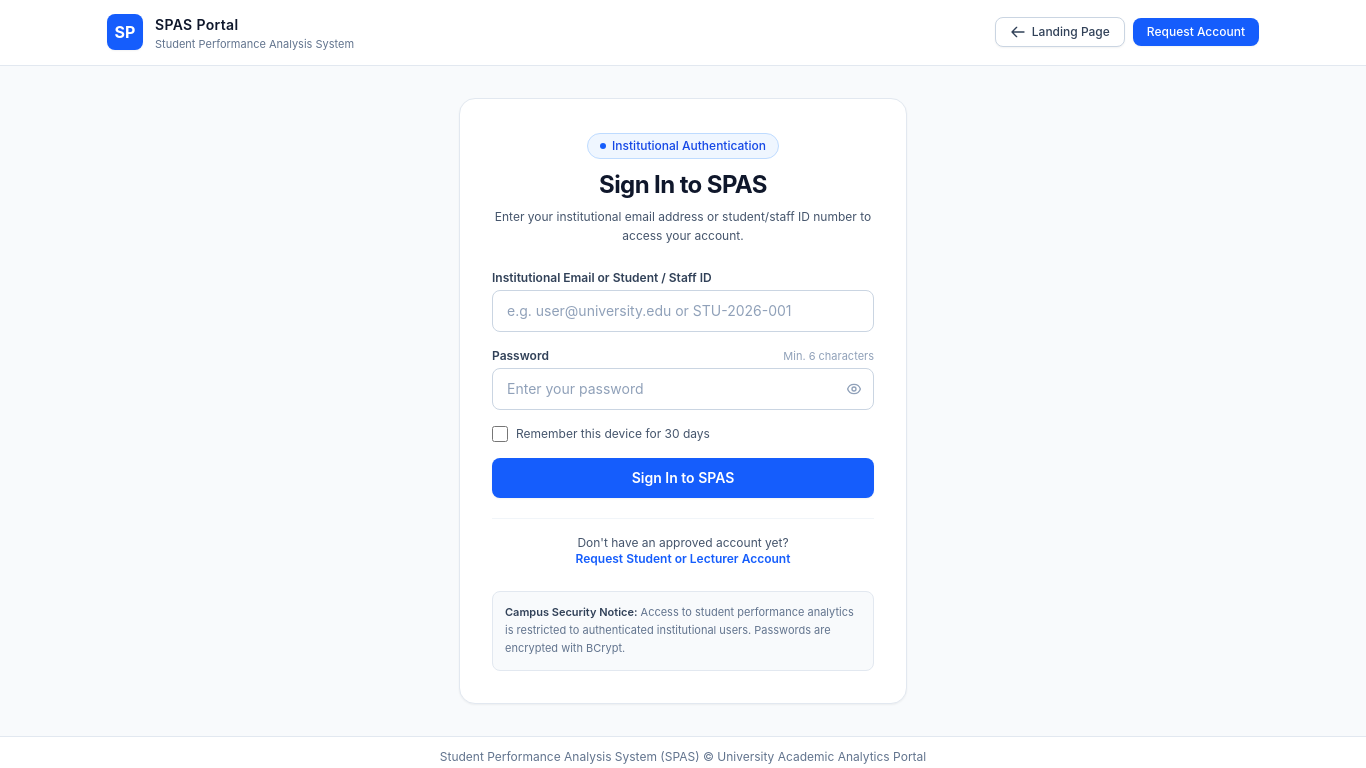
LoginPage › displays server error on authentication failure
The image size is (1366, 768).
Type "bad@spas.edu" into the field labelled "Institutional Email or Student / Staff ID" at (683, 310), box [492,290,874,332]
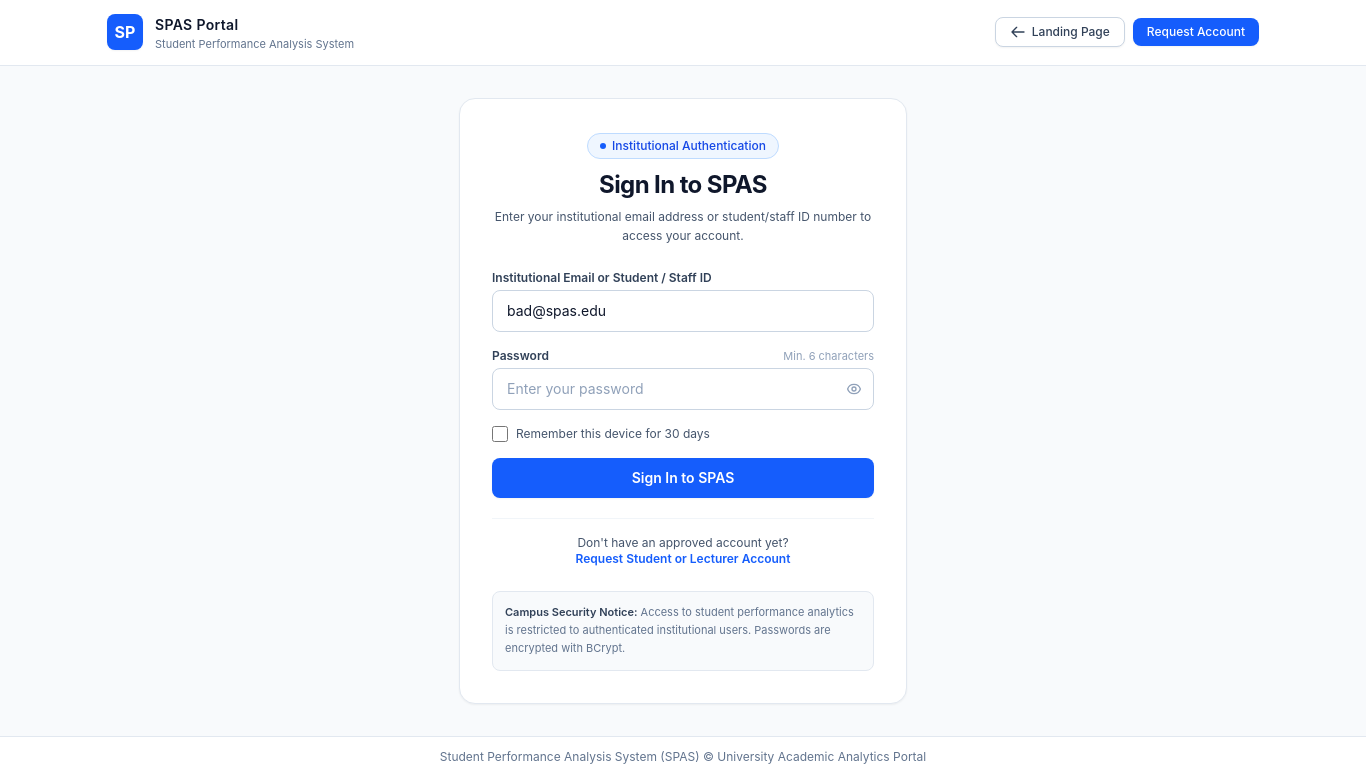
Type "wrongPassword" into the password field labelled "Password" at (683, 389), box [492,368,874,410]
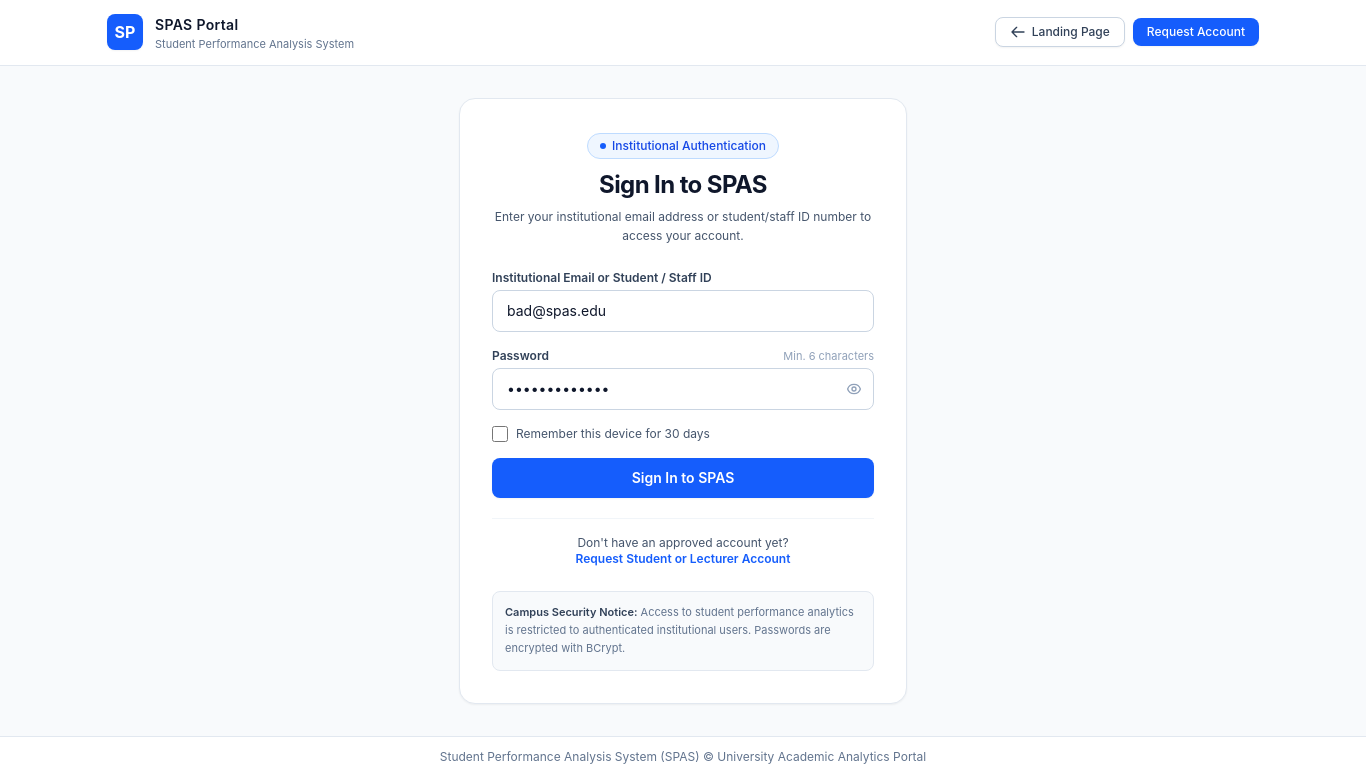
Click the button "Sign In to SPAS" at (683, 478), box [492,458,874,498]
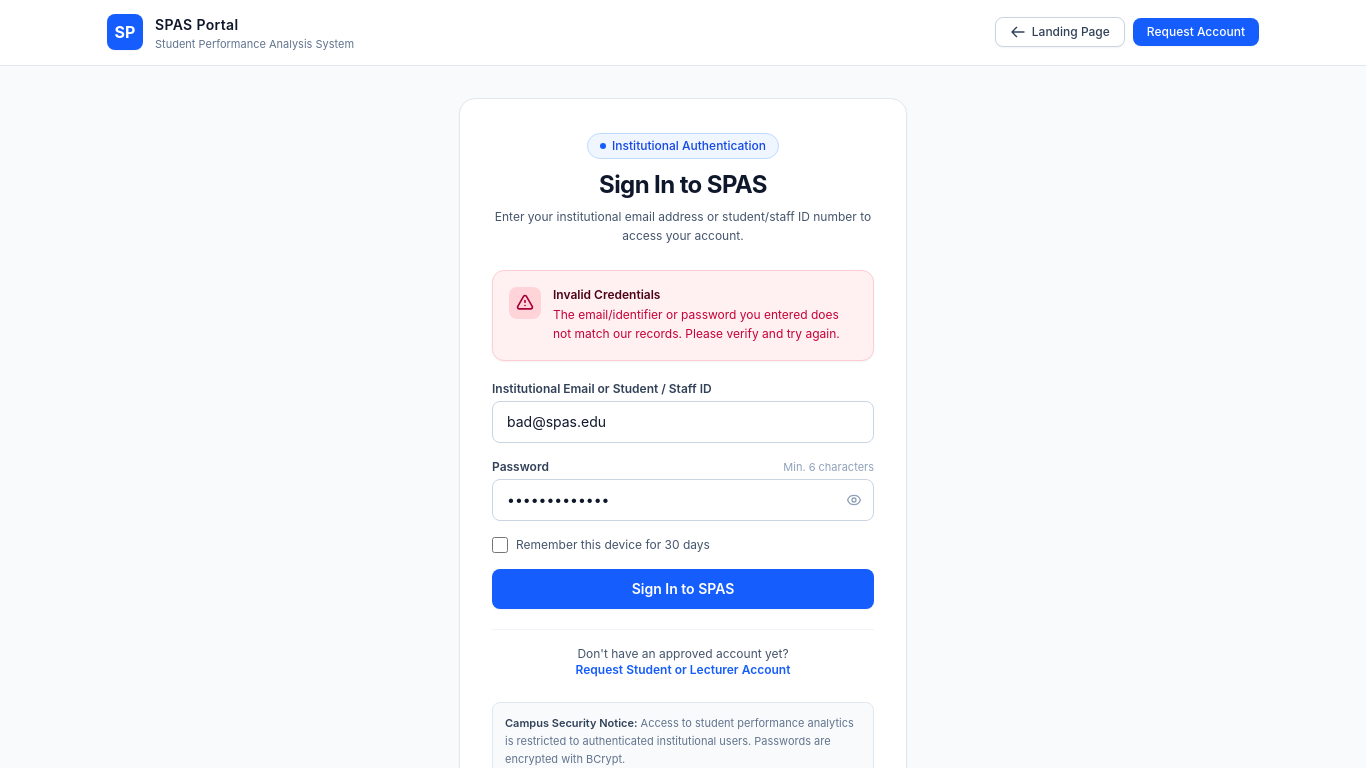
Now the text "Invalid Credentials" is shown, box [553,286,660,302]
